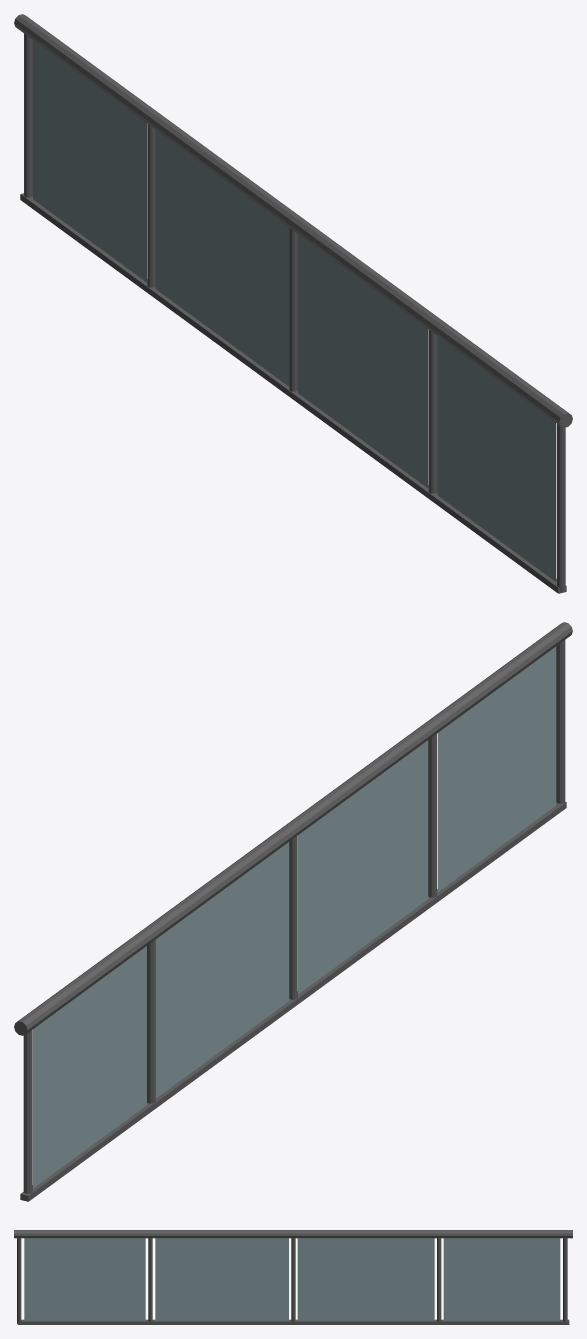
File: SM_GardenFence.fbx
3 views of the same model, one above another, from view 1: azimuth 30°, elevation 25°; view 2: azimuth 150°, elevation 25°; view 3: azimuth 270°, elevation 25° (orthographic). The views are drawn at different scales.
Parts seen in each view (by area): view 1: SM_Fence; view 2: SM_Fence; view 3: SM_Fence.
Part boxes in pixels (x1,y1,x2,y2): SM_Fence: (14, 14, 572, 593); SM_Fence: (14, 622, 572, 1201); SM_Fence: (14, 1230, 572, 1324).
Bounding box in the file's own units: 12.46 × 158 × 861.
